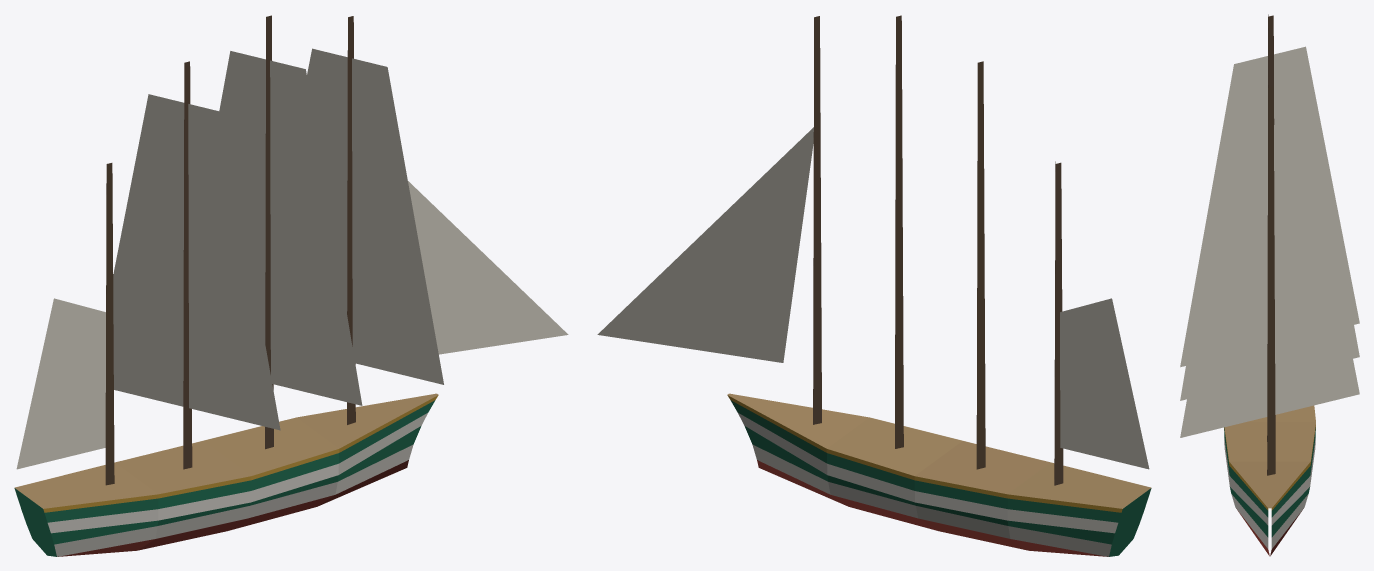
File: titan_usdt_lod.glb
The picture shows the model from 3 angles, left to right: view 1: azimuth 30°, elevation 25°; view 2: azimuth 150°, elevation 25°; view 3: azimuth 270°, elevation 25°; orthographic projection. The views are drawn at different scales.
Parts seen in each view (by area): view 1: lod; view 2: lod; view 3: lod.
Part boxes in pixels (x1,y1,x2,y2): lod: (14,15,568,556); lod: (597,15,1151,556); lod: (1180,14,1359,556).
Bounding box in the file's own units: 43.2 × 37.81 × 12.78.
